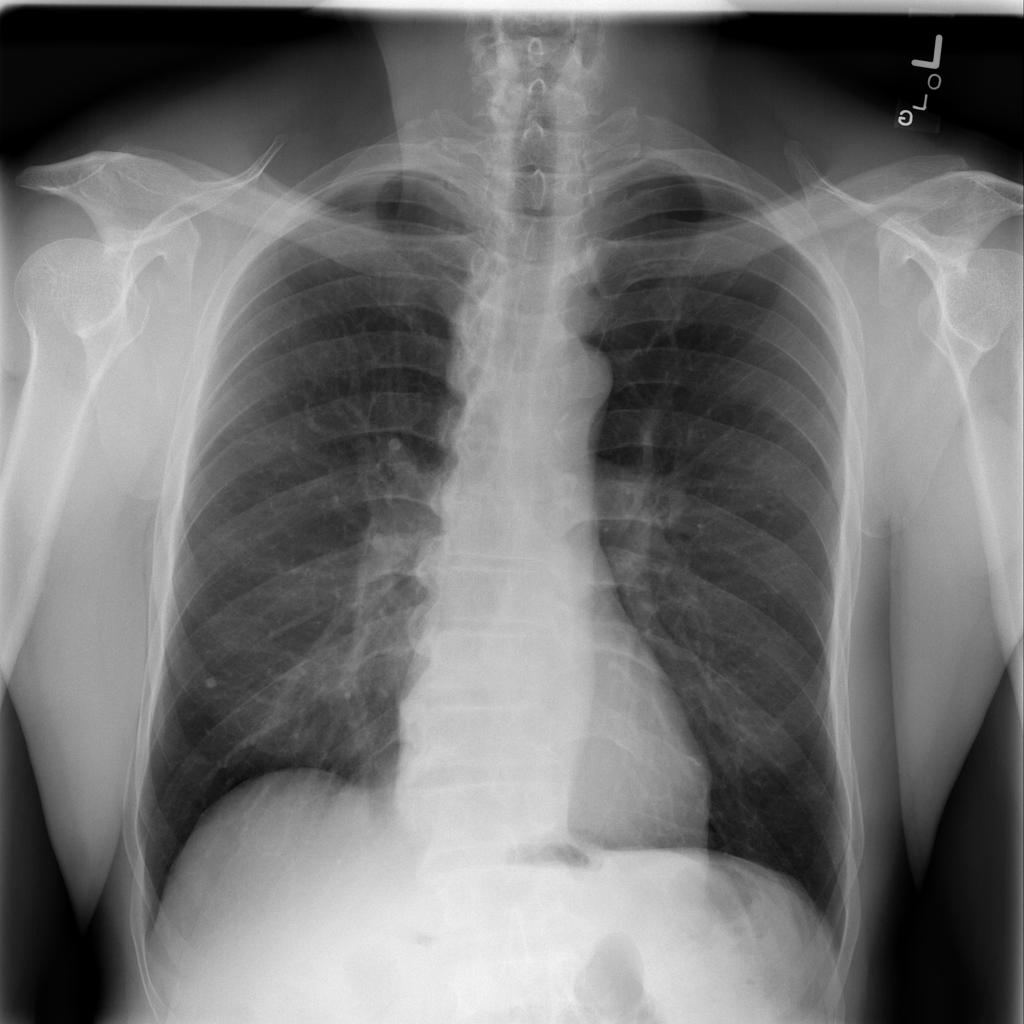nodule: (195, 659, 230, 696)
